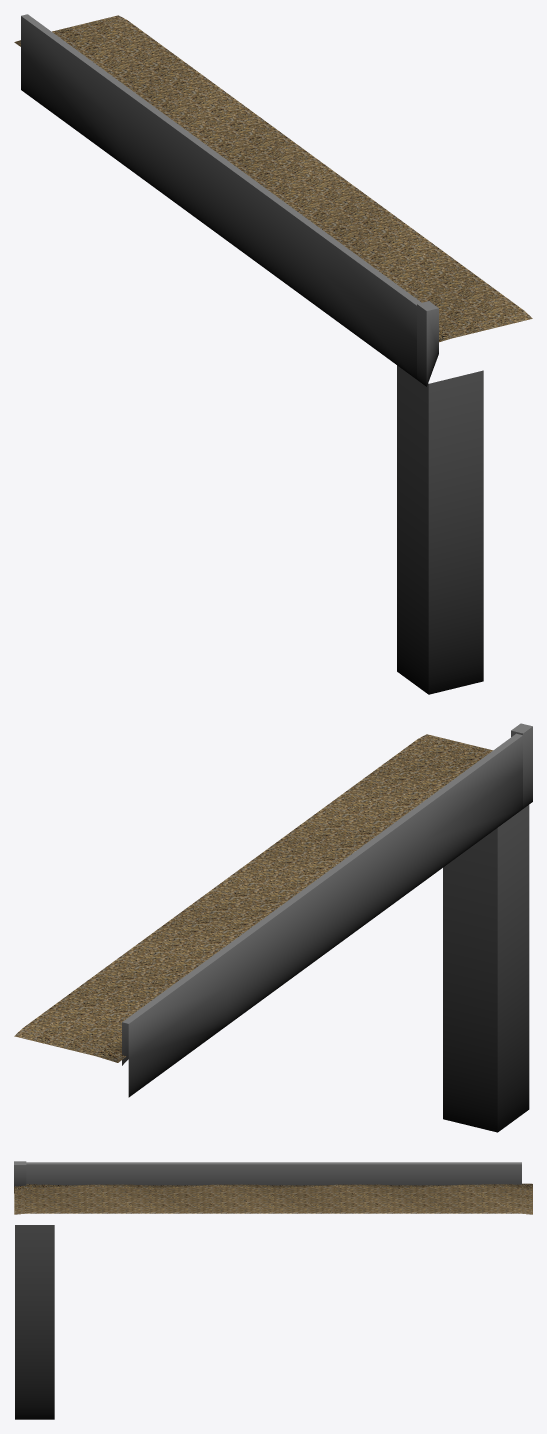
The model's file is KONKURI_R05.glb.
3 views of the same model, one above another, from view 1: azimuth 30°, elevation 25°; view 2: azimuth 150°, elevation 25°; view 3: azimuth 270°, elevation 25° (orthographic). The views are drawn at different scales.
Parts seen in each view (by area): view 1: Model; view 2: Model; view 3: Model.
Part boxes in pixels (<box>): Model: <box>14,14,532,694</box>; Model: <box>14,723,532,1132</box>; Model: <box>14,1161,532,1419</box>.
Size of the model in its own units: 15.5 by 53.54 by 105.
Materials: 2 (2 with a texture image).
